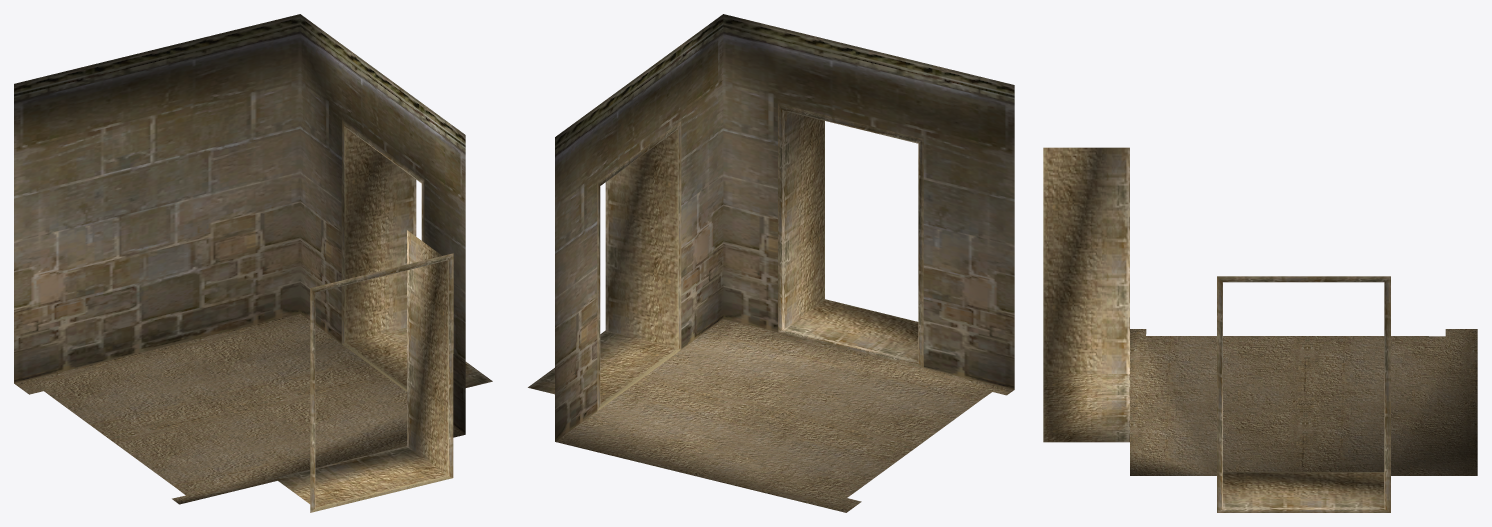
File: M7Z4_FortWall5_A_Room.glb
3 views of the same model, side by side, from view 1: azimuth 30°, elevation 25°; view 2: azimuth 150°, elevation 25°; view 3: azimuth 270°, elevation 25° (orthographic). The views are drawn at different scales.
Visible parts, largest first — view 1: M7Z4_FORTWALL5_A_ROOM; view 2: M7Z4_FORTWALL5_A_ROOM; view 3: M7Z4_FORTWALL5_A_ROOM.
Part boxes in pixels (box(x1,y1,x2,y2)): M7Z4_FORTWALL5_A_ROOM: box(14, 14, 492, 512); M7Z4_FORTWALL5_A_ROOM: box(528, 14, 1014, 512); M7Z4_FORTWALL5_A_ROOM: box(1043, 147, 1477, 512).
Size of the model in its own units: 5 by 4.01 by 5.
4 materials, 4 textured.
